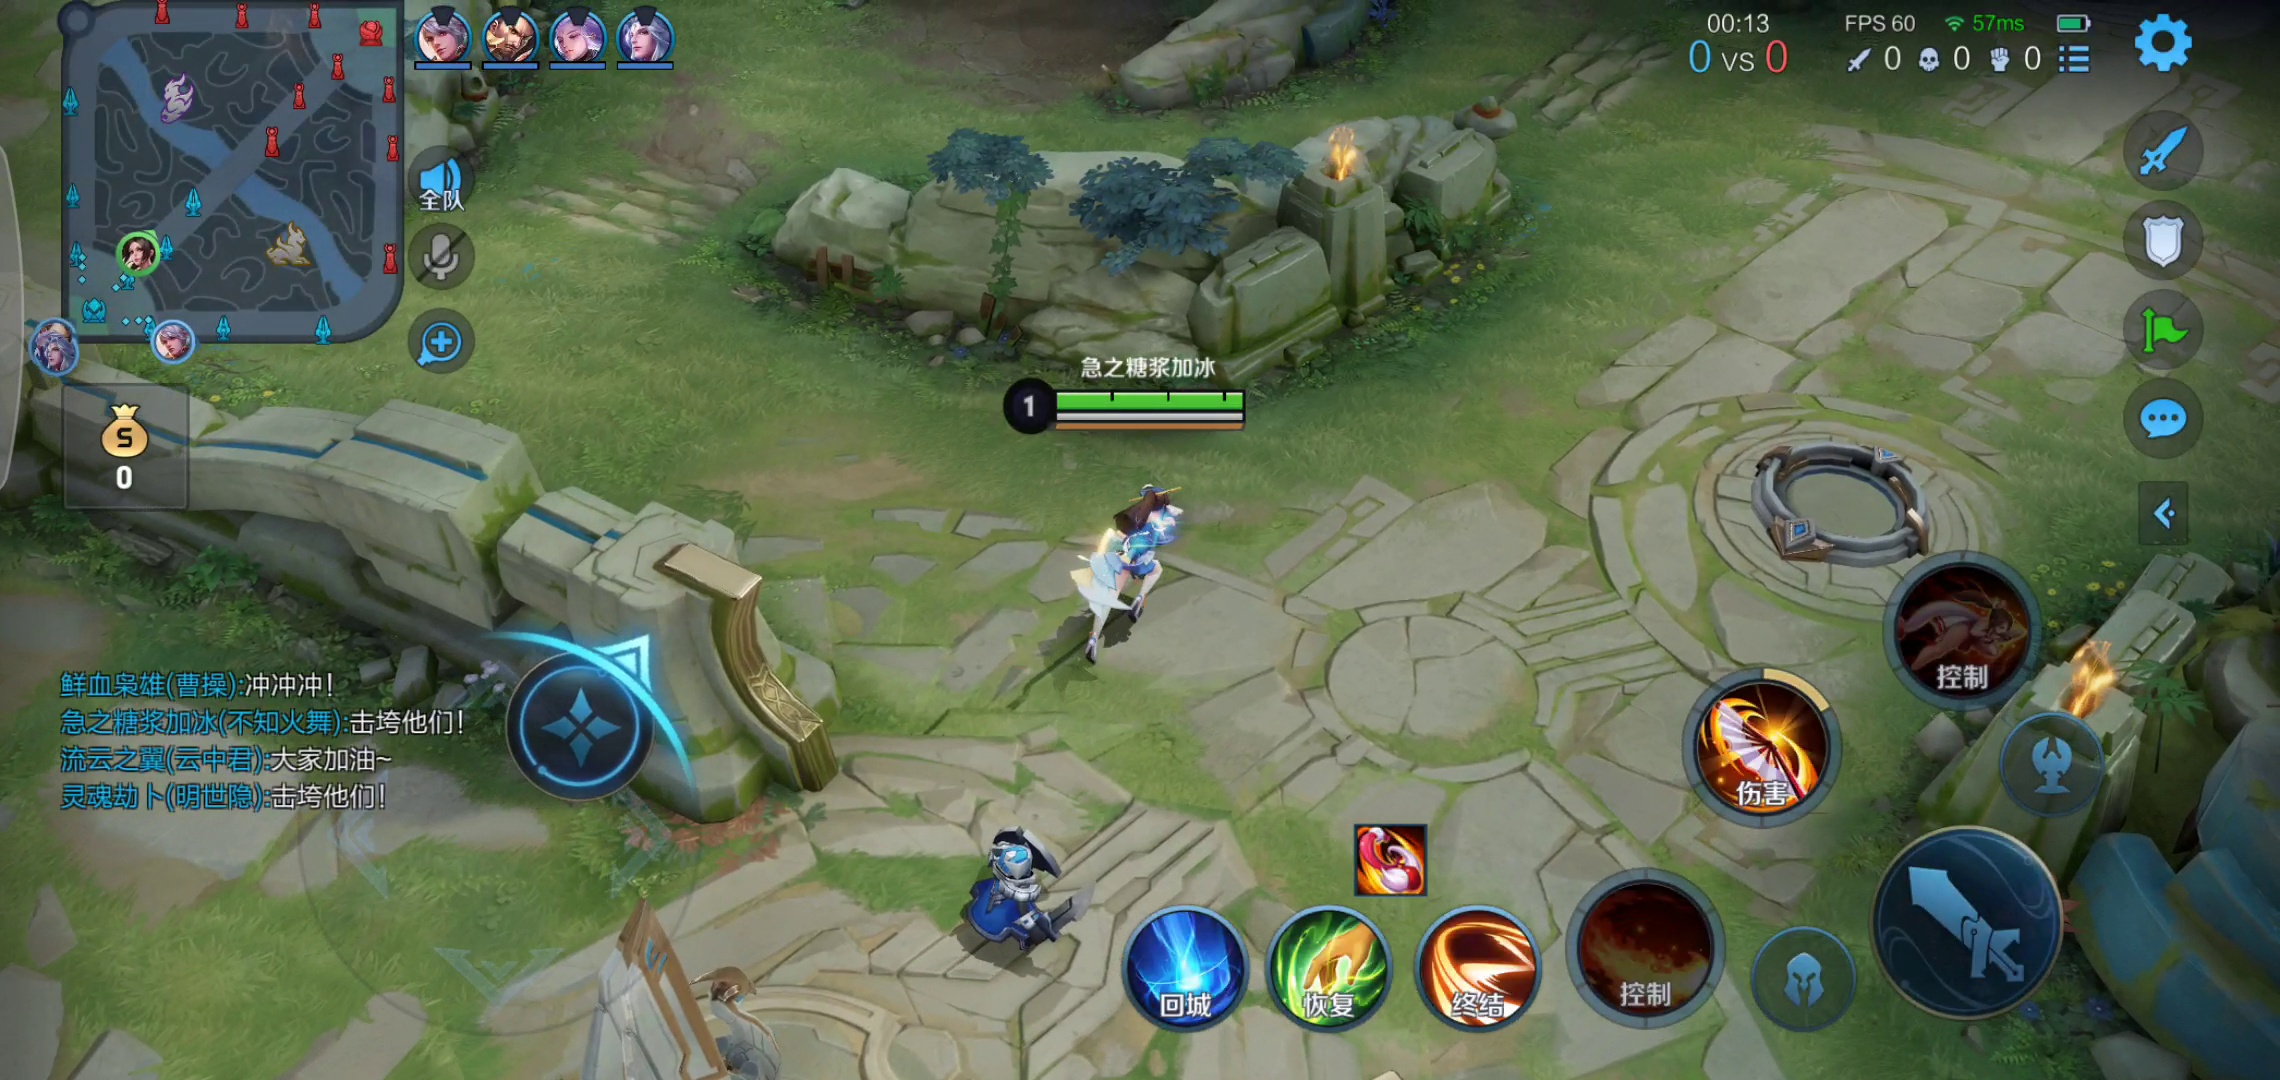hero: (1044, 472, 1213, 666)
soldier: (957, 821, 1080, 962)
tower: (526, 908, 794, 1079)
